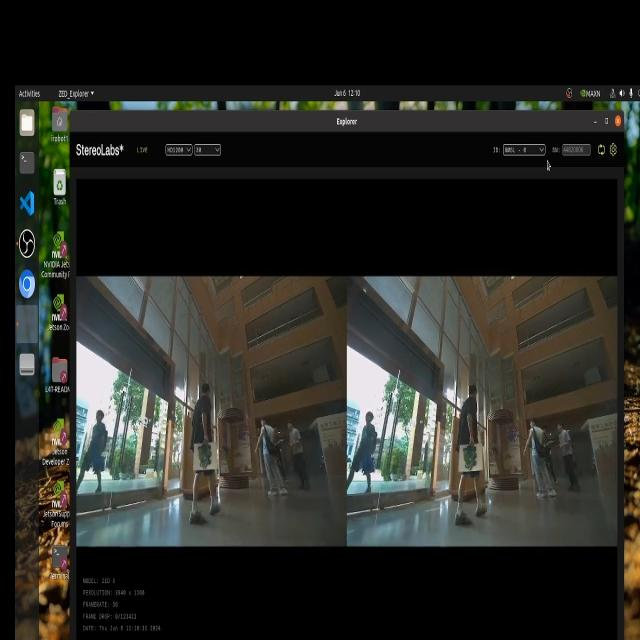green: (199, 447, 220, 470), (462, 449, 478, 475)
